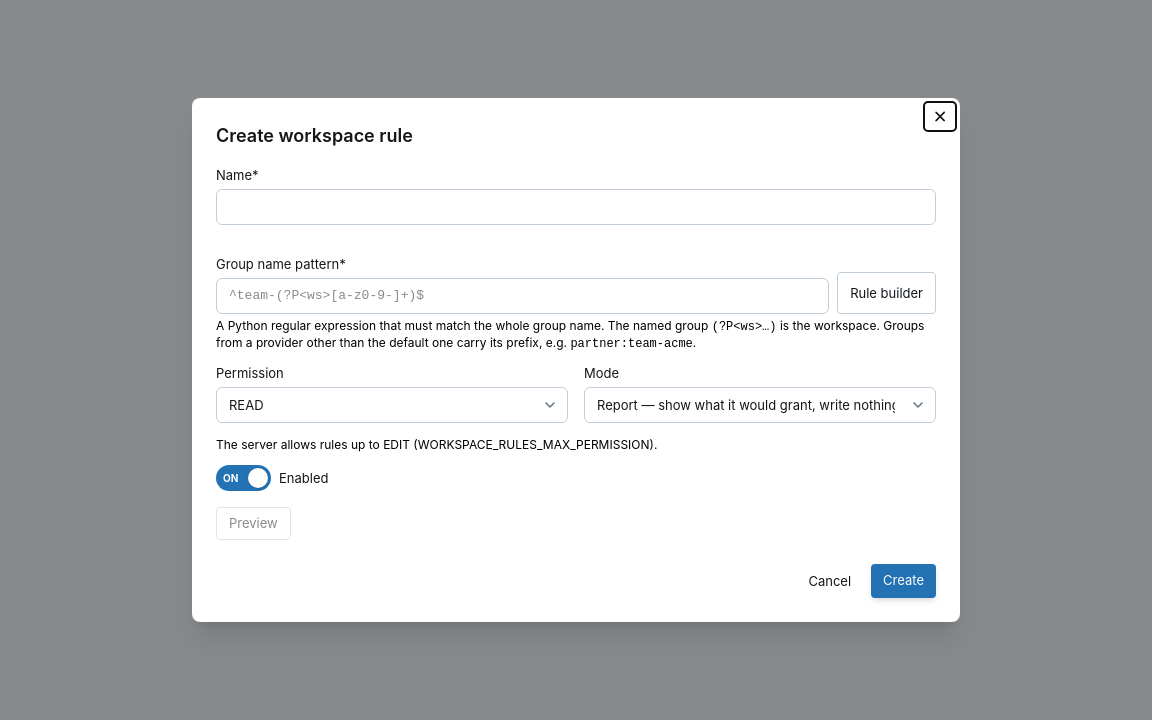
Test: WorkspaceRuleModal › shows the server's 400 message for a pattern without the ws group
In the field labelled "Name*": {"x": 576, "y": 207} x1=216 y1=189 x2=936 y2=225, type "tenants"
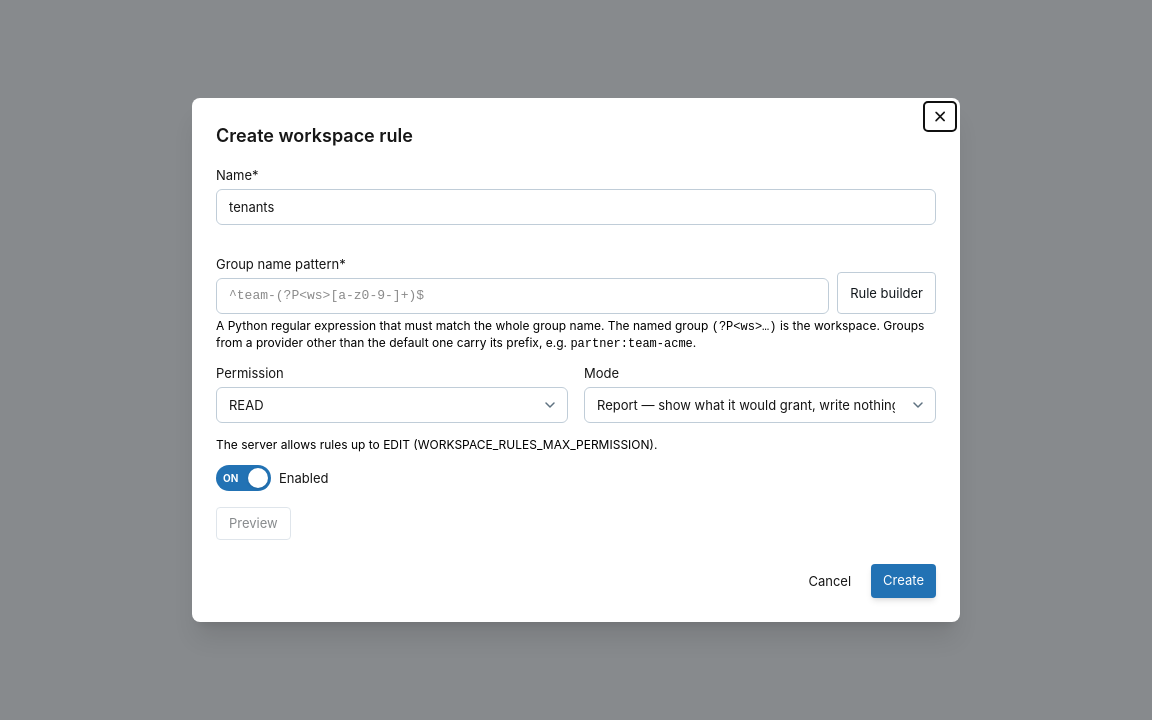
In the field labelled "Group name pattern*": {"x": 523, "y": 296} x1=216 y1=278 x2=829 y2=314, type "^team-([a-z]+)$"
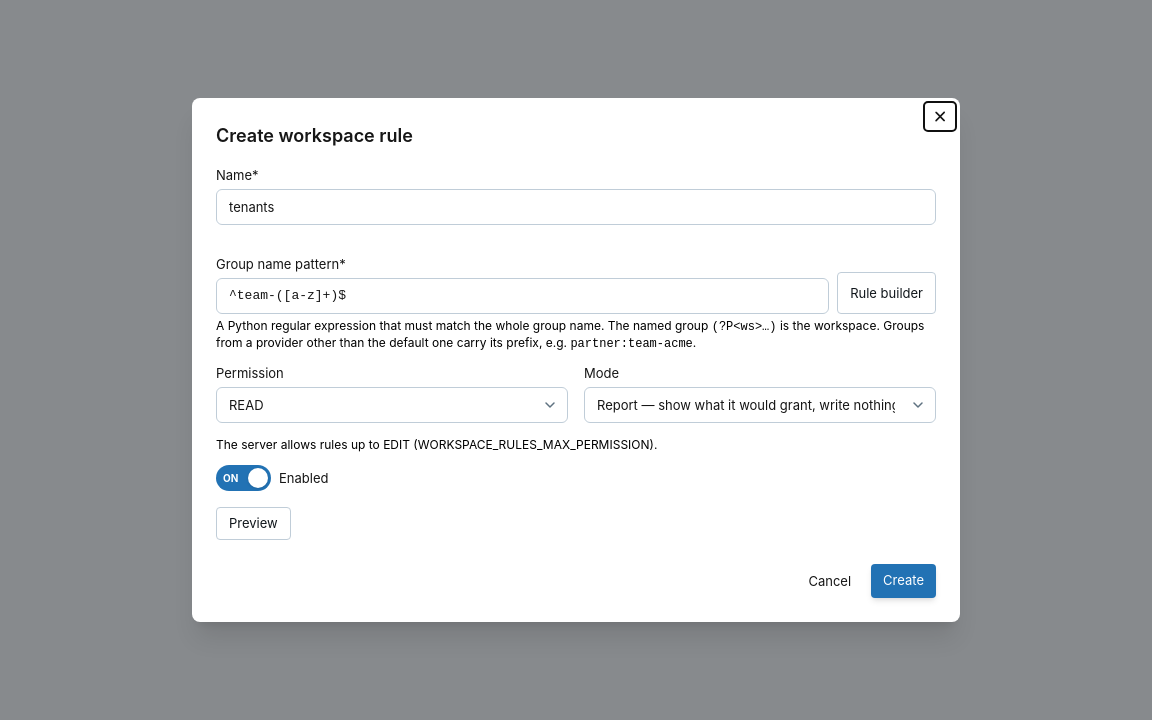
Click the button "Create": {"x": 904, "y": 581} x1=871 y1=564 x2=936 y2=598
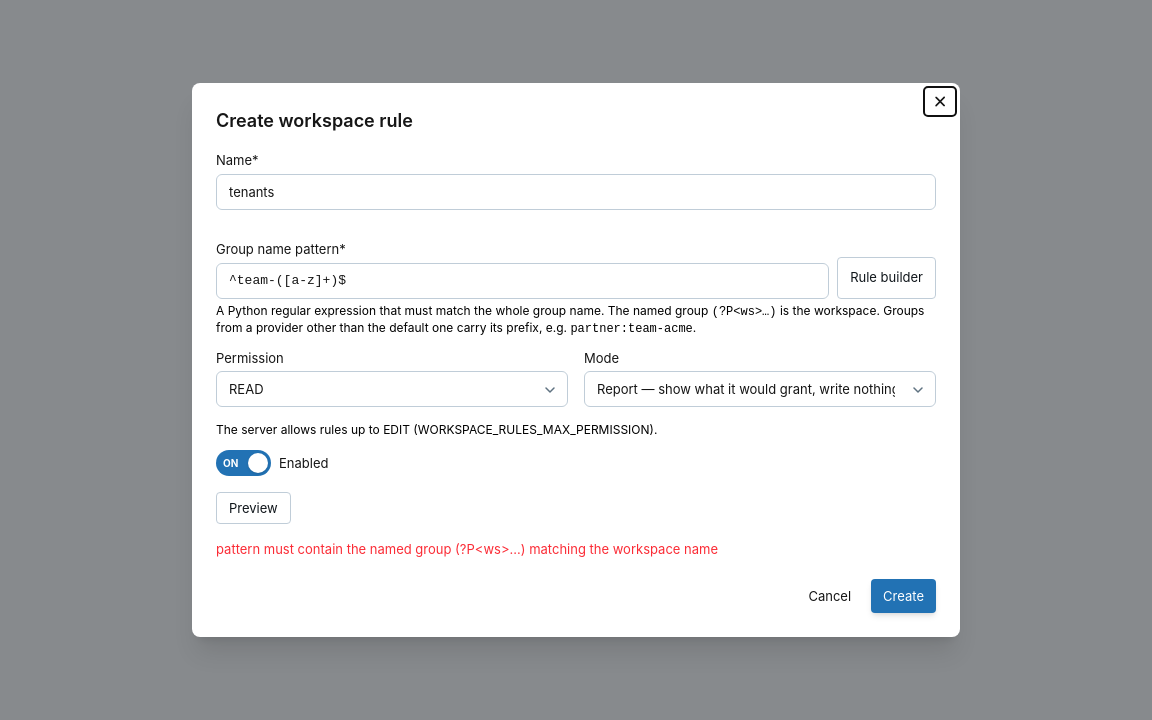
Expected: the message reads "pattern must contain the named group (?P<ws>...) matching the workspace name", x1=216 y1=541 x2=718 y2=557
